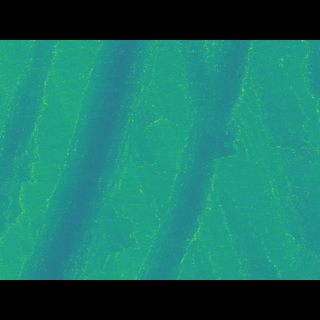Loch: (12, 71, 165, 250), (130, 69, 259, 249), (0, 69, 66, 217)
